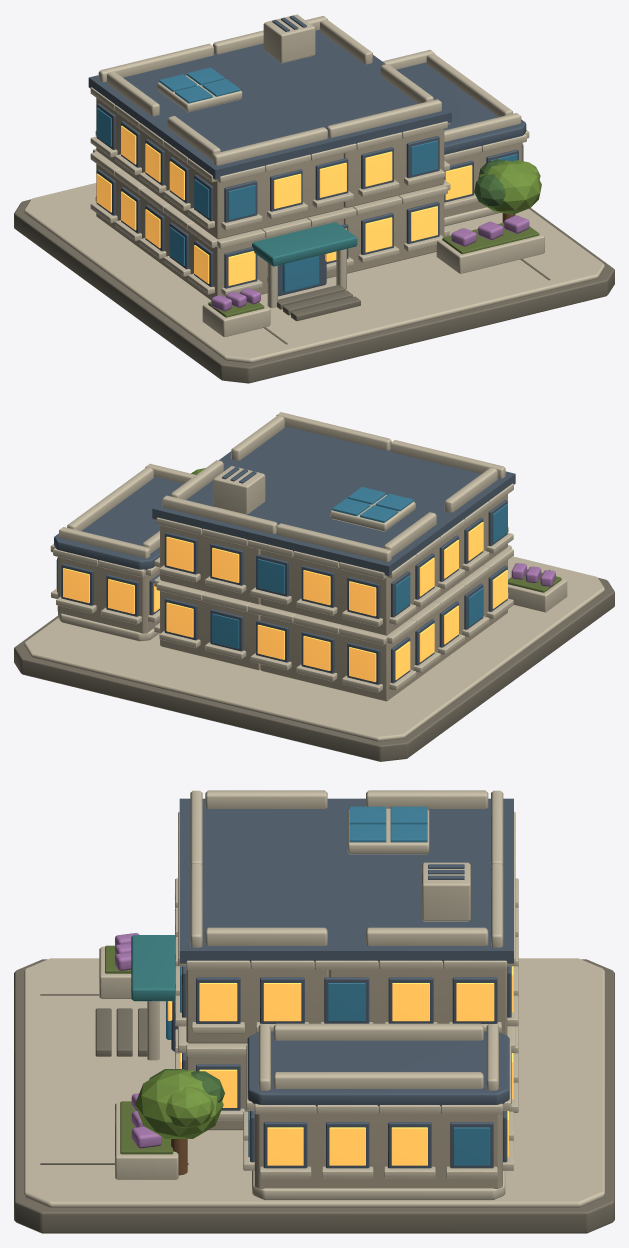
File: civilian-house-normal.glb
3 views of the same model, one above another, from view 1: azimuth 30°, elevation 25°; view 2: azimuth 150°, elevation 25°; view 3: azimuth 270°, elevation 25° (orthographic). The views are drawn at different scales.
Visible parts, largest first — view 1: CivilianShell; view 2: CivilianShell; view 3: CivilianShell.
Boxes of the visible parts, x1,y1,x2,y2 form: CivilianShell: (14, 14, 614, 383); CivilianShell: (14, 412, 614, 761); CivilianShell: (14, 790, 614, 1233).
Size of the model in its own units: 2.97 by 1.38 by 2.97.
